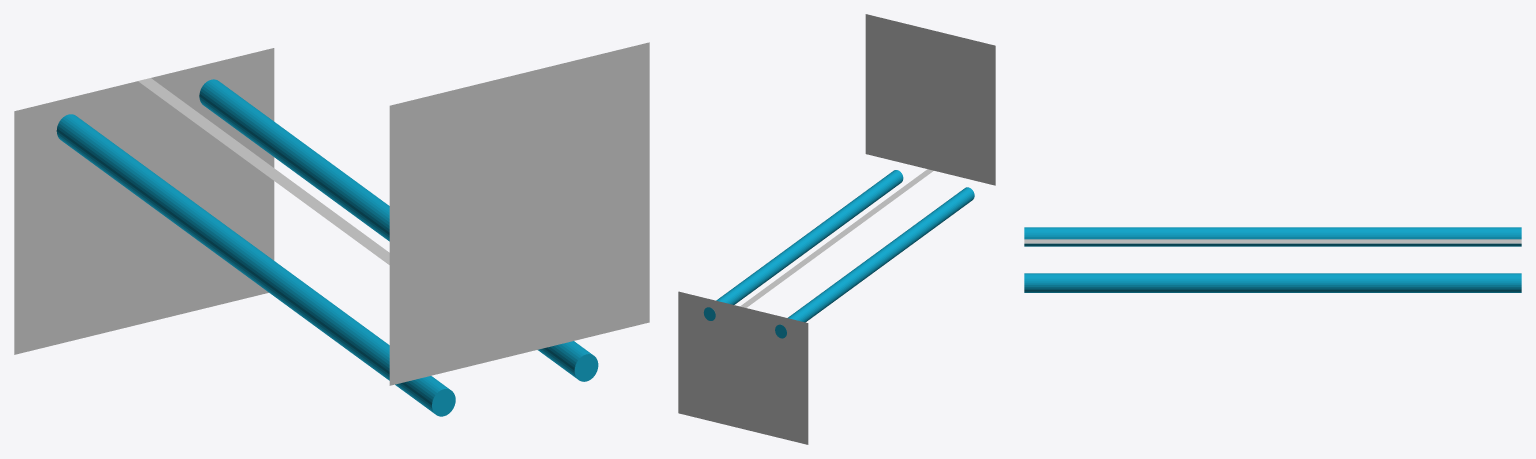
File: ladder.obj
3 renders of one model, left to right at view 1: azimuth 30°, elevation 25°; view 2: azimuth 150°, elevation 25°; view 3: azimuth 270°, elevation 25°, orthographic. The views are drawn at different scales.
Visible parts, largest first — view 1: HeightVerts, Remaining, WidthCenter, WidthL, WidthR; view 2: Remaining, HeightVerts, WidthCenter, WidthL, WidthR; view 3: Remaining, WidthCenter, WidthL, WidthR.
Boxes of the visible parts, x1,y1,x2,y2 form: HeightVerts: (389,42,649,416); Remaining: (14,48,592,413); WidthCenter: (140,78,389,262); WidthL: (138,80,389,264); WidthR: (148,78,389,254); Remaining: (678,170,974,444); HeightVerts: (865,14,995,185); WidthCenter: (741,169,932,307); WidthL: (745,170,933,307); WidthR: (740,169,928,306); Remaining: (1024,227,1521,292); WidthCenter: (1024,240,1521,242); WidthL: (1024,239,1521,240); WidthR: (1024,243,1521,243).
Bounding box in the file's own units: 20 × 38.5 × 50.
